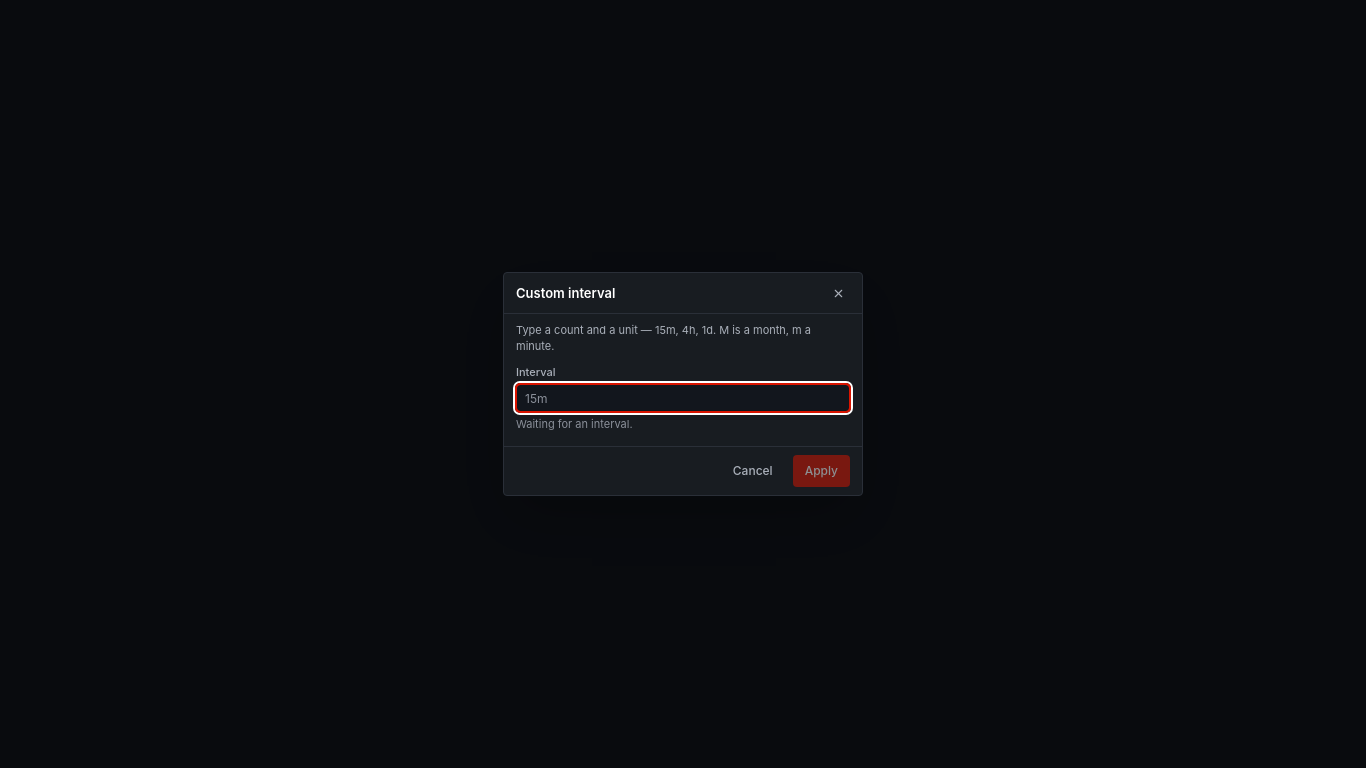
Test case: IntervalDialog › accepts a served interval and reports what it will show
The image size is (1366, 768).
Type "4h" into the field labelled "Interval" at (683, 398), box [516,384,850,412]
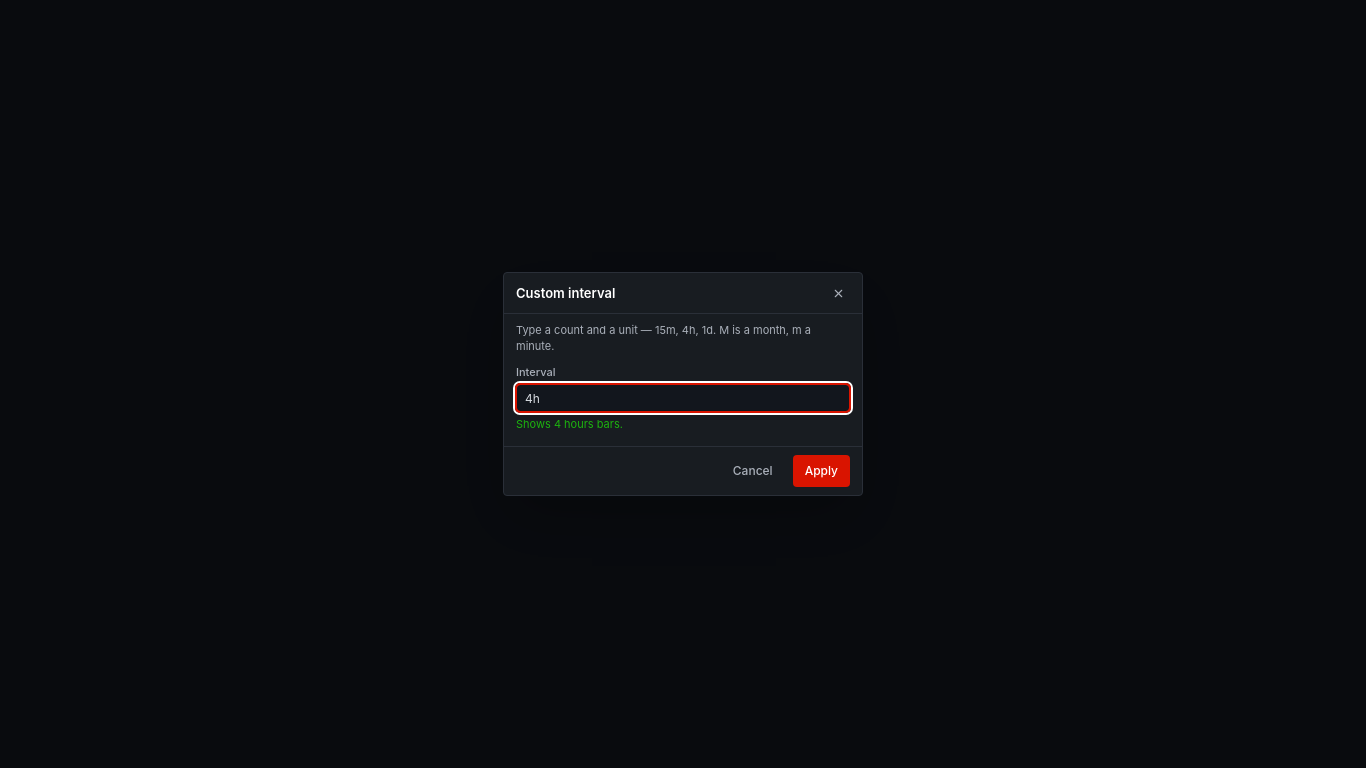
Expected: the text "Shows 4 hours bars." is shown, [516,417,623,431]
